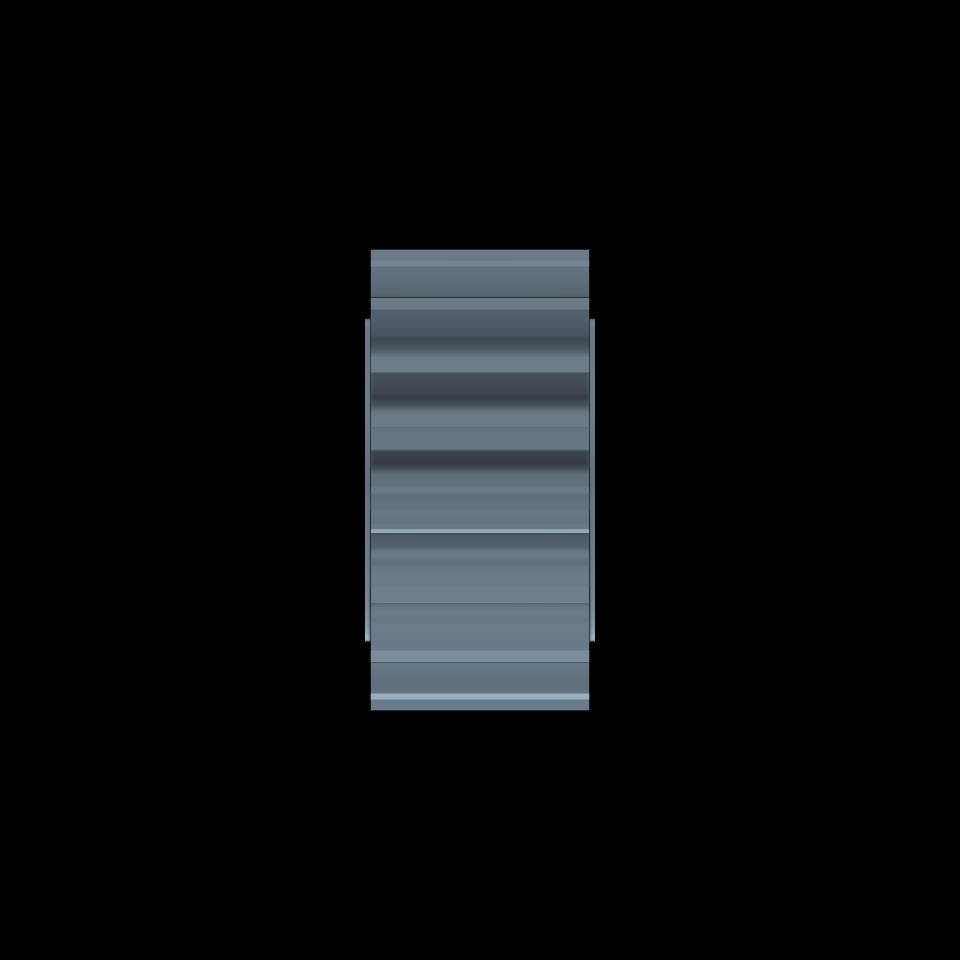Straight: (372, 250, 589, 710)
